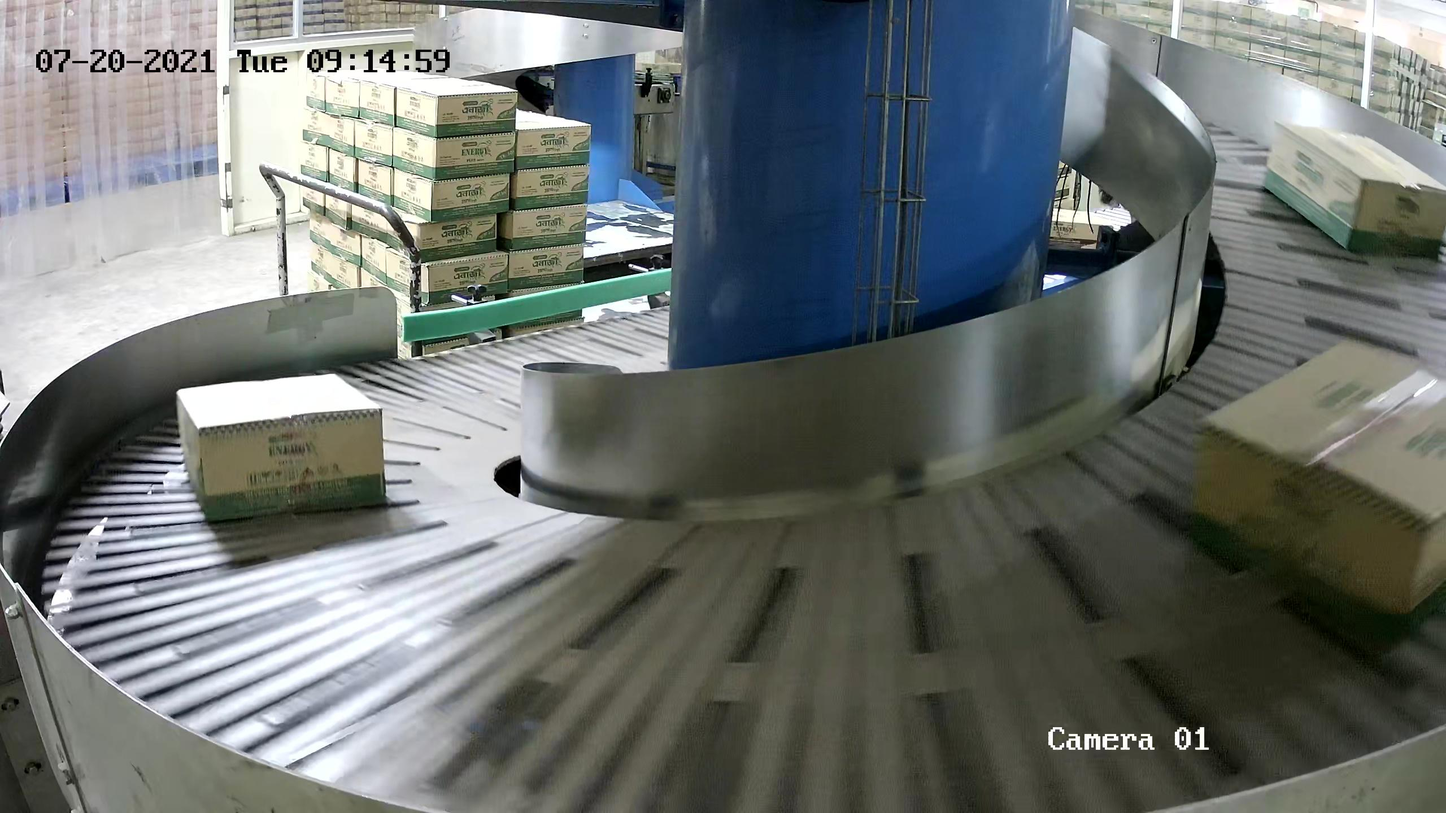Box: (1189, 336, 1446, 666), (176, 373, 387, 522), (1260, 118, 1446, 265)
